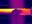Hotspot: (0, 9, 14, 13)
